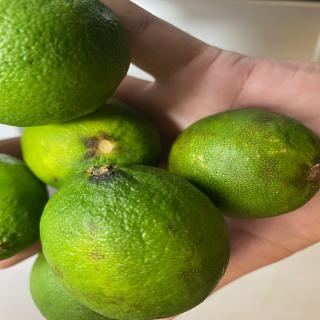Chilli: (38, 162, 231, 319)
Lemon: (167, 108, 320, 219), (0, 0, 132, 127), (20, 98, 163, 190), (29, 251, 114, 319), (0, 152, 48, 260)
